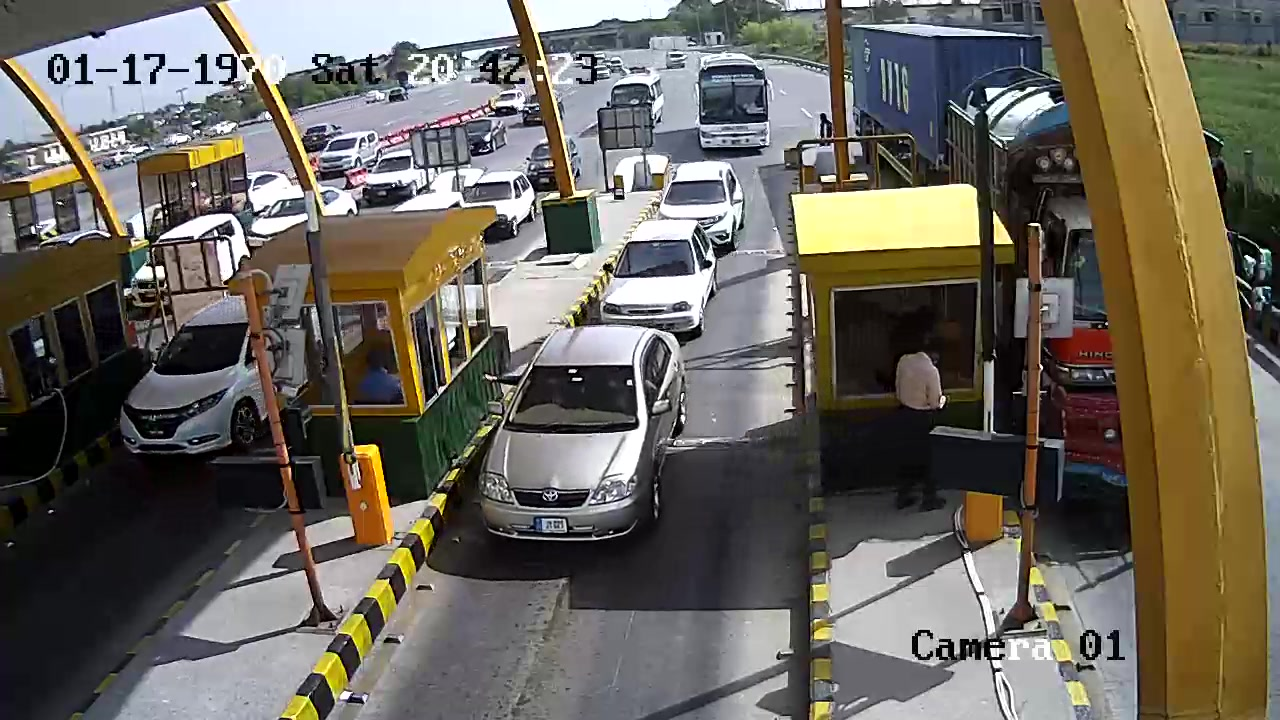F1: (477, 320, 697, 580)
